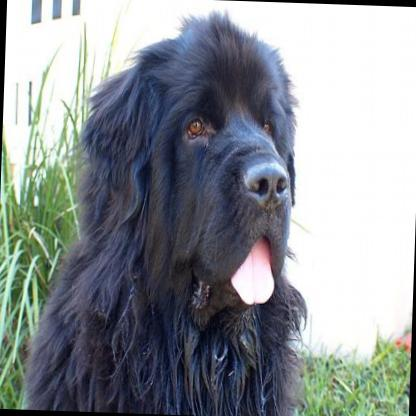Newfoundland: (14, 0, 315, 416)
